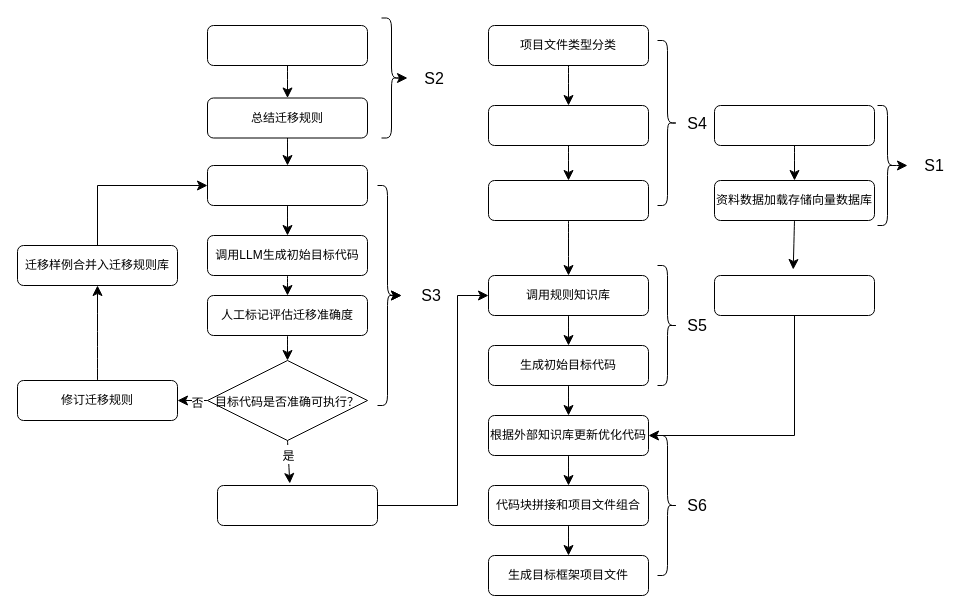
This 979x613 diagram has some shape labels left out. Here are the shapes that lost their labels. From the top down, the centre of each, then its label:
point 287,45: 编写基础控件库
point 568,125: 代码文件拆分为文本块、生成小结
point 794,125: 爬取迁移前后前端框架资料
point 287,185: 生成迁移测试用例
point 568,200: 保存代码块信息生成总结
point 794,295: 外部知识库生成
point 297,505: 迁移规则库生成
